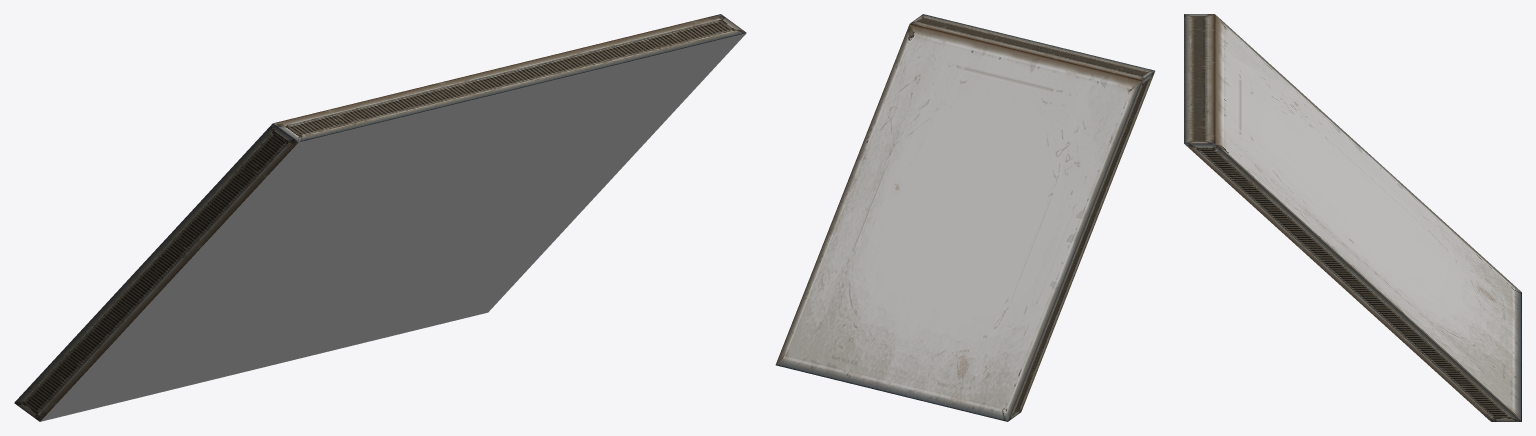
The model's file is scifi_wall_top1_3.FBX.
3 views of the same model, side by side, from view 1: azimuth 30°, elevation 25°; view 2: azimuth 150°, elevation 25°; view 3: azimuth 270°, elevation 25° (orthographic). The views are drawn at different scales.
Parts seen in each view (by area): view 1: Plane334; view 2: Plane334; view 3: Plane334.
Part boxes in pixels (x1,y1,x2,y2): Plane334: (14, 14, 746, 421); Plane334: (775, 14, 1155, 421); Plane334: (1184, 14, 1521, 421).
Bounding box in the file's own units: 254 × 254 × 279.
